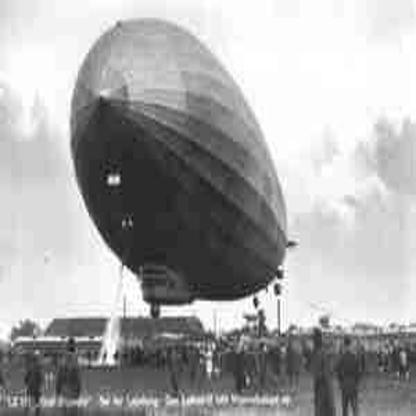Airship: (66, 15, 305, 312)
